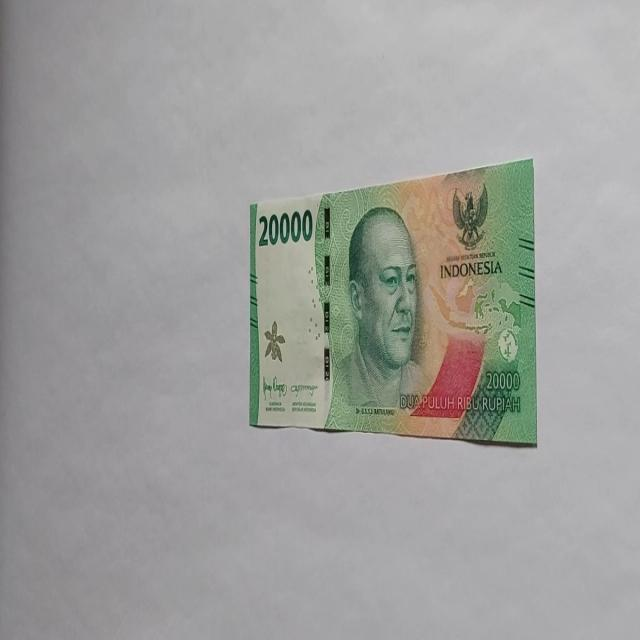dua puluh ribu rupiah: (248, 156, 536, 444), (324, 204, 434, 432)
